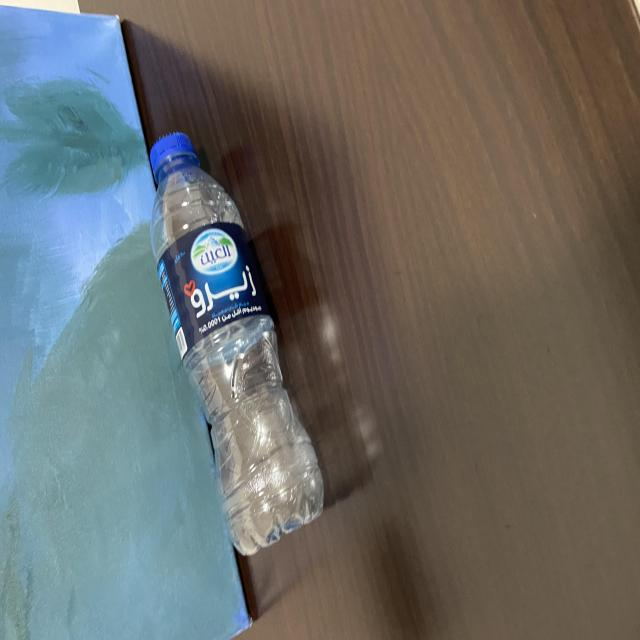plastic: (146, 129, 328, 559)
